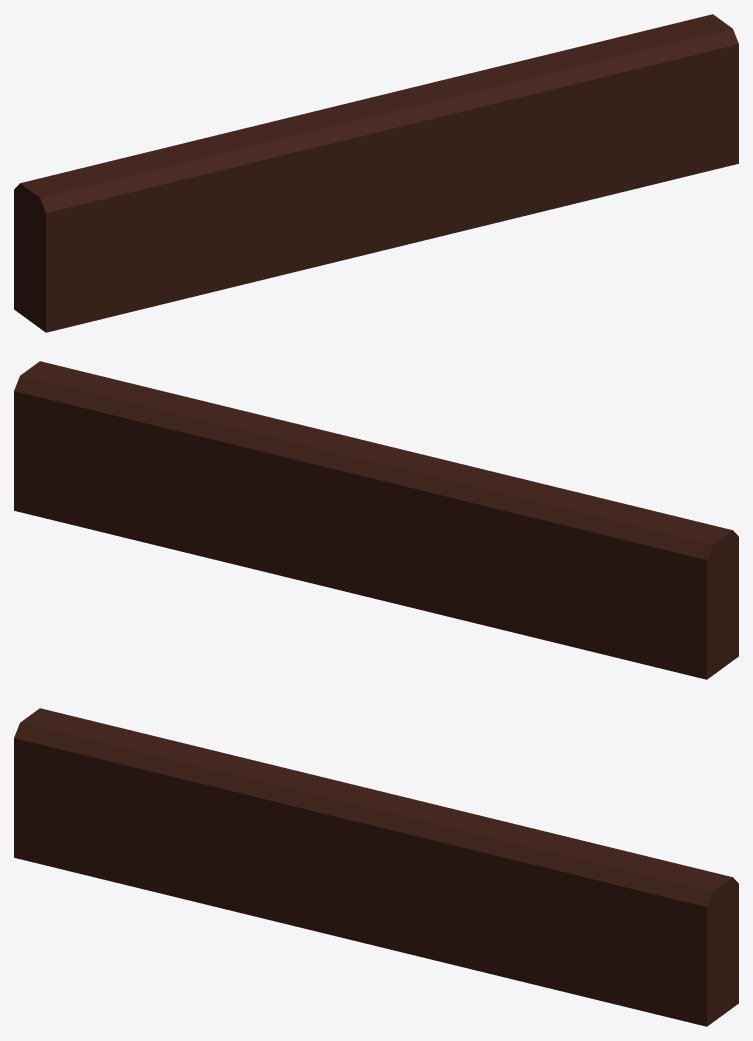
Rendered from floor-kerb.glb.
The picture shows the model from 3 angles, top to bottom: view 1: azimuth 30°, elevation 25°; view 2: azimuth 150°, elevation 25°; view 3: azimuth 330°, elevation 25°; orthographic projection.
Parts seen in each view (by area): view 1: floor-kerb; view 2: floor-kerb; view 3: floor-kerb.
Part boxes in pixels (left/top/right/bottom): floor-kerb: left=14, top=14, right=738, bottom=332; floor-kerb: left=14, top=361, right=738, bottom=679; floor-kerb: left=14, top=708, right=738, bottom=1026.
Size of the model in its own units: 2 by 0.36 by 0.16.
